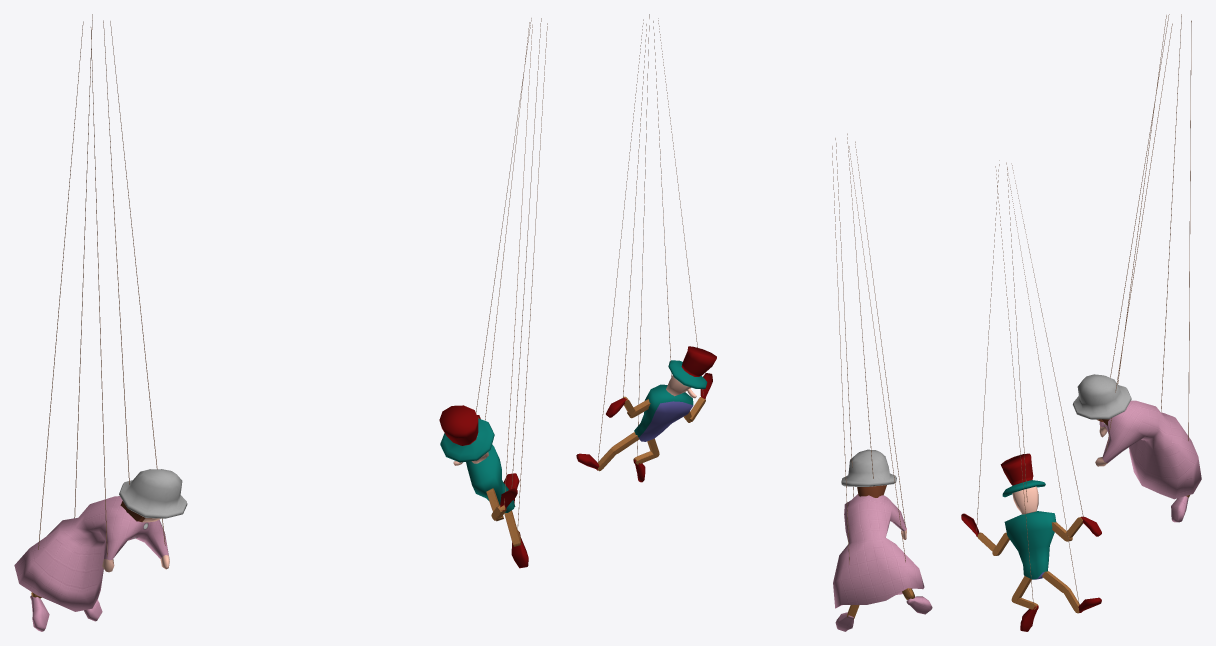
Rendered from Marionets.fbx.
The picture shows the model from 3 angles, left to right: view 1: azimuth 30°, elevation 25°; view 2: azimuth 150°, elevation 25°; view 3: azimuth 270°, elevation 25°; orthographic projection. The views are drawn at different scales.
Visible parts, largest first — view 1: Marionet_Woman, Marionet_Man; view 2: Marionet_Woman, Marionet_Man; view 3: Marionet_Woman, Marionet_Man.
Boxes of the visible parts, left/top/right/bottom form: Marionet_Woman: left=14, top=14, right=187, bottom=631; Marionet_Man: left=439, top=18, right=547, bottom=568; Marionet_Woman: left=832, top=133, right=932, bottom=631; Marionet_Man: left=576, top=14, right=716, bottom=482; Marionet_Woman: left=1072, top=14, right=1201, bottom=522; Marionet_Man: left=961, top=160, right=1101, bottom=631.
Bounding box in the file's own units: 5.15 × 6.44 × 2.76.
